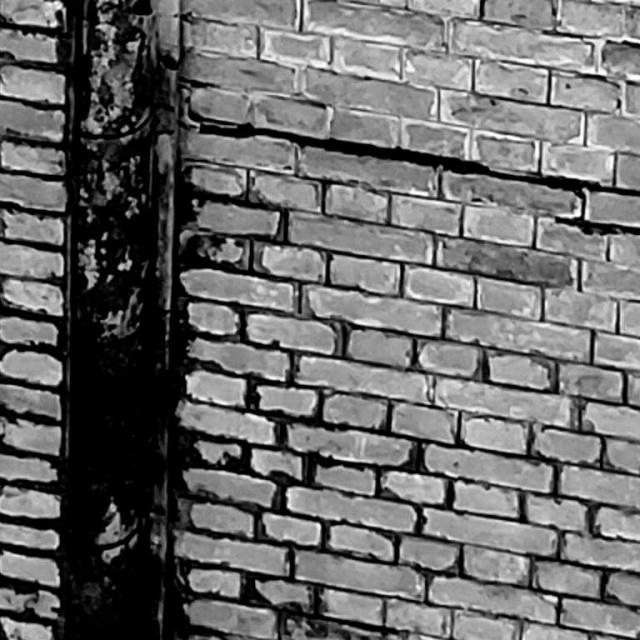crack: (187, 107, 640, 237)
